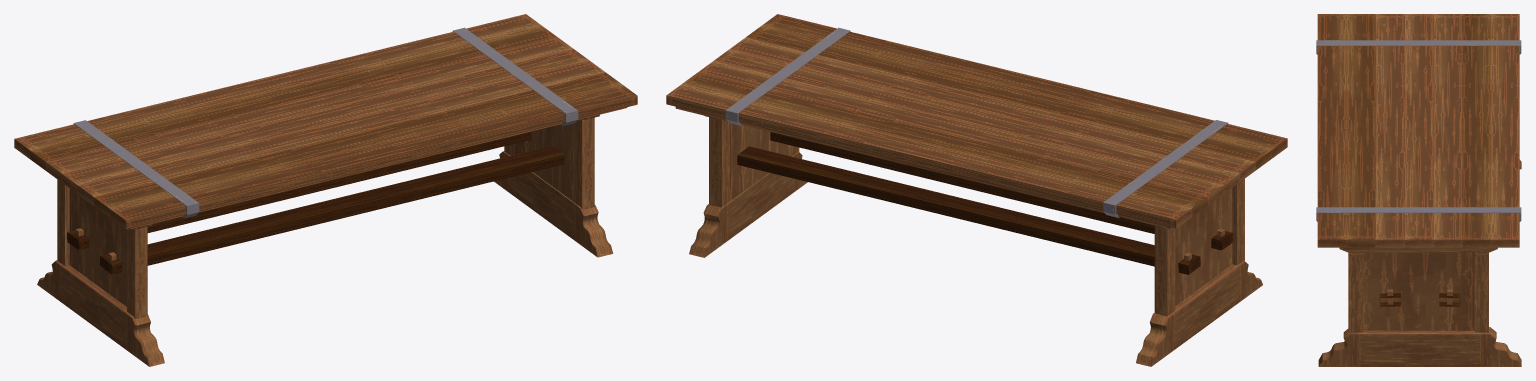
File: Table_Large.gltf
3 views of the same model, side by side, from view 1: azimuth 30°, elevation 25°; view 2: azimuth 150°, elevation 25°; view 3: azimuth 270°, elevation 25° (orthographic). The views are drawn at different scales.
Parts seen in each view (by area): view 1: Table_Large; view 2: Table_Large; view 3: Table_Large.
Boxes of the visible parts, x1,y1,x2,y2 form: Table_Large: [14, 14, 637, 366]; Table_Large: [666, 14, 1287, 366]; Table_Large: [1316, 14, 1521, 366].
Bounding box in the file's own units: 2.85 × 0.8134 × 1.1.
Materials: 2 (2 with a texture image).
